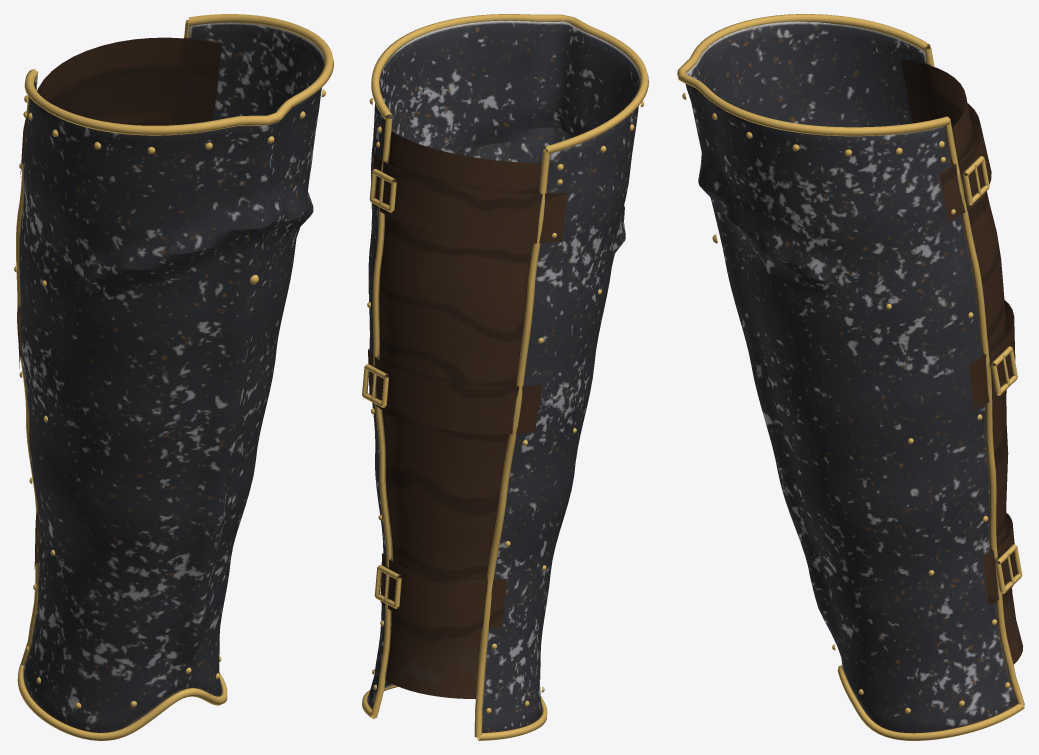
The model's file is SM_EagleGreaves_L.fbx.
3 views of the same model, side by side, from view 1: azimuth 30°, elevation 25°; view 2: azimuth 150°, elevation 25°; view 3: azimuth 270°, elevation 25° (orthographic). The views are drawn at different scales.
Visible parts, largest first — view 1: SM_EagleGreaves_L; view 2: SM_EagleGreaves_L; view 3: SM_EagleGreaves_L.
Boxes of the visible parts, box(x1,y1,x2,y2) form: SM_EagleGreaves_L: box(14, 14, 333, 740); SM_EagleGreaves_L: box(362, 14, 648, 740); SM_EagleGreaves_L: box(677, 14, 1024, 740).
Bounding box in the file's own units: 0.1611 × 0.3923 × 0.1922.
